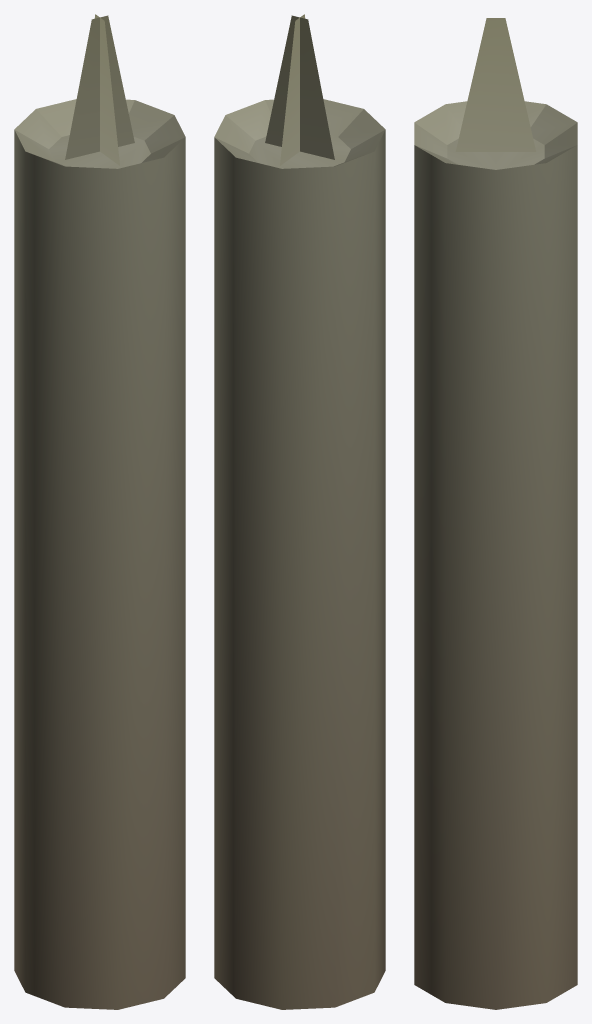
Rendered from Light_CandleB.fbx.
The picture shows the model from 3 angles, left to right: view 1: azimuth 30°, elevation 25°; view 2: azimuth 150°, elevation 25°; view 3: azimuth 270°, elevation 25°; orthographic projection.
Visible parts, largest first — view 1: Light_CandleB; view 2: Light_CandleB; view 3: Light_CandleB.
Boxes of the visible parts, box(x1,y1,x2,y2) form: Light_CandleB: box(14, 14, 185, 1009); Light_CandleB: box(214, 14, 385, 1009); Light_CandleB: box(414, 18, 577, 1009).
Bounding box in the file's own units: 3.56 × 21.81 × 3.39.
